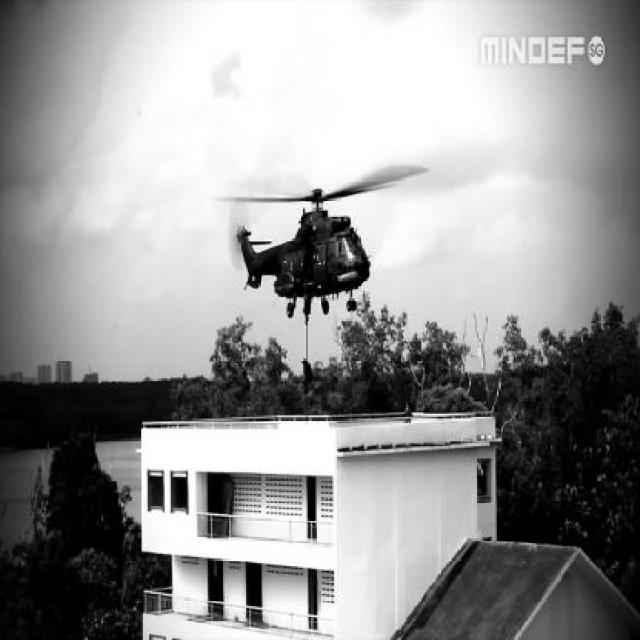Helicopter: (210, 163, 434, 322)
